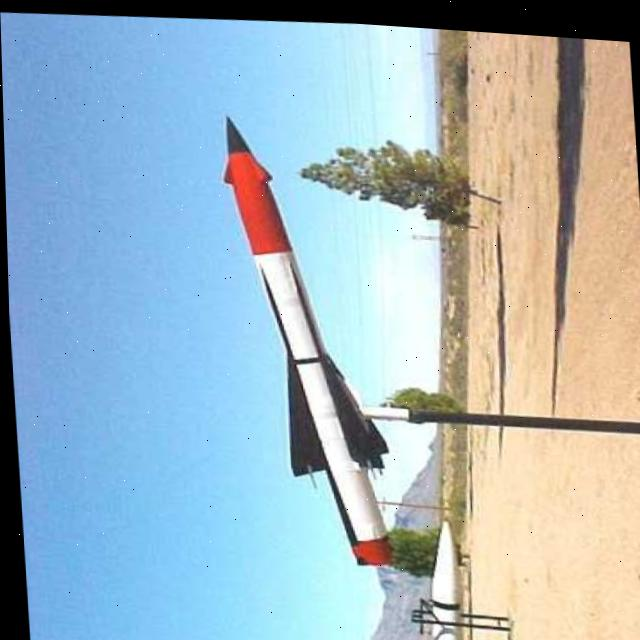missile: (212, 103, 422, 570)
